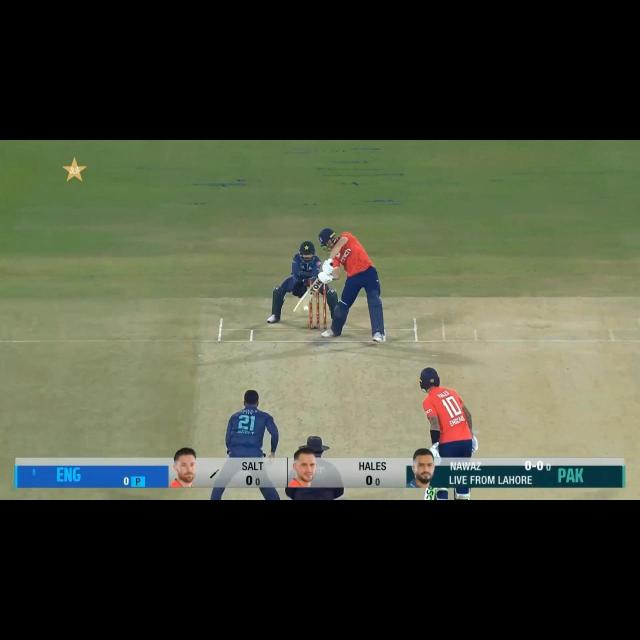bat: (293, 282, 323, 313), (426, 488, 436, 501)
toe: (292, 308, 303, 314)
